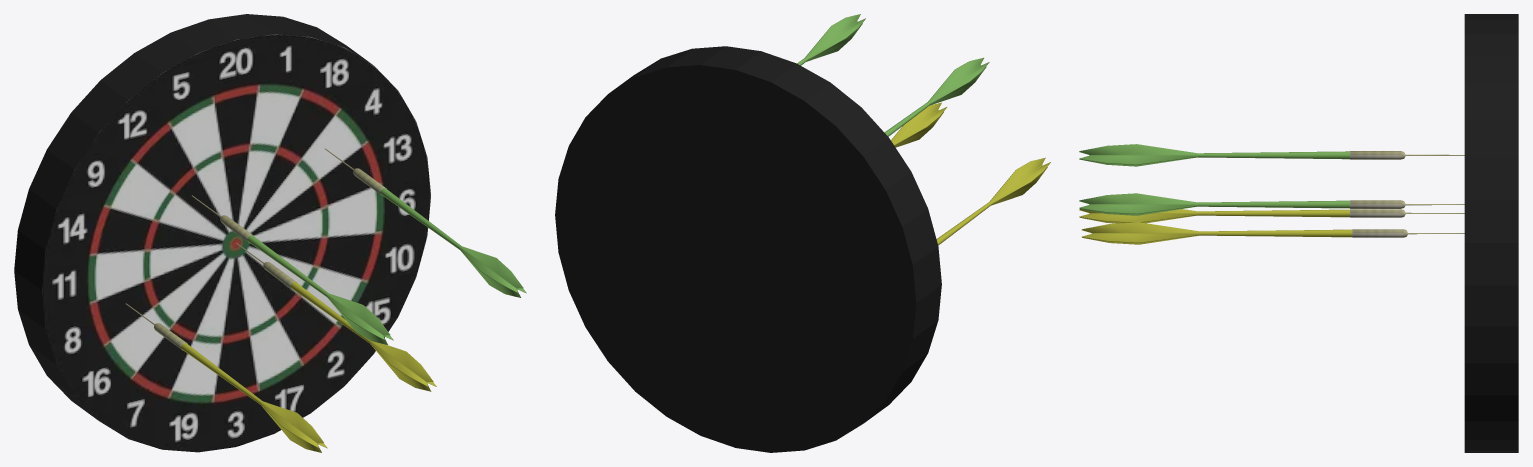
Rendered from sh-scopia-dart-game.glb.
3 renders of one model, left to right at view 1: azimuth 30°, elevation 25°; view 2: azimuth 150°, elevation 25°; view 3: azimuth 270°, elevation 25°, orthographic. The views are drawn at different scales.
Parts seen in each view (by area): view 1: Cylinder, Cylinder.004, Cylinder.003; view 2: Cylinder, Cylinder.004, Cylinder.003; view 3: Cylinder, Cylinder.004, Cylinder.003.
Part boxes in pixels (bbox=[...]): Cylinder: bbox=[14, 14, 430, 452]; Cylinder.004: bbox=[125, 148, 526, 350]; Cylinder.003: bbox=[181, 281, 436, 452]; Cylinder: bbox=[555, 46, 941, 452]; Cylinder.004: bbox=[797, 14, 989, 136]; Cylinder.003: bbox=[891, 102, 1050, 245]; Cylinder: bbox=[1464, 14, 1518, 452]; Cylinder.004: bbox=[1079, 144, 1464, 237]; Cylinder.003: bbox=[1079, 209, 1352, 244].
Size of the model in its own units: 1 by 1 by 1.
Materials: 4 (2 with a texture image).
